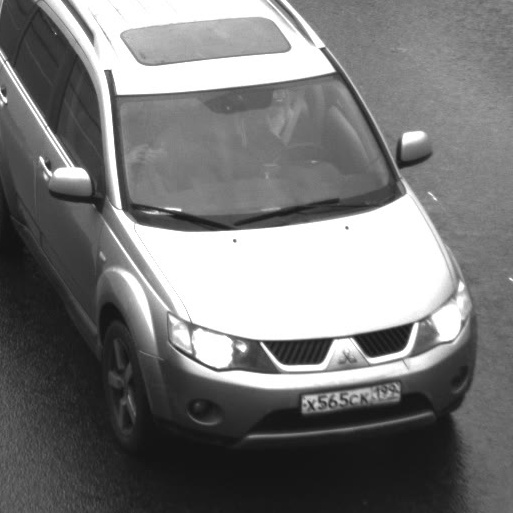plate: (289, 367, 409, 424)
